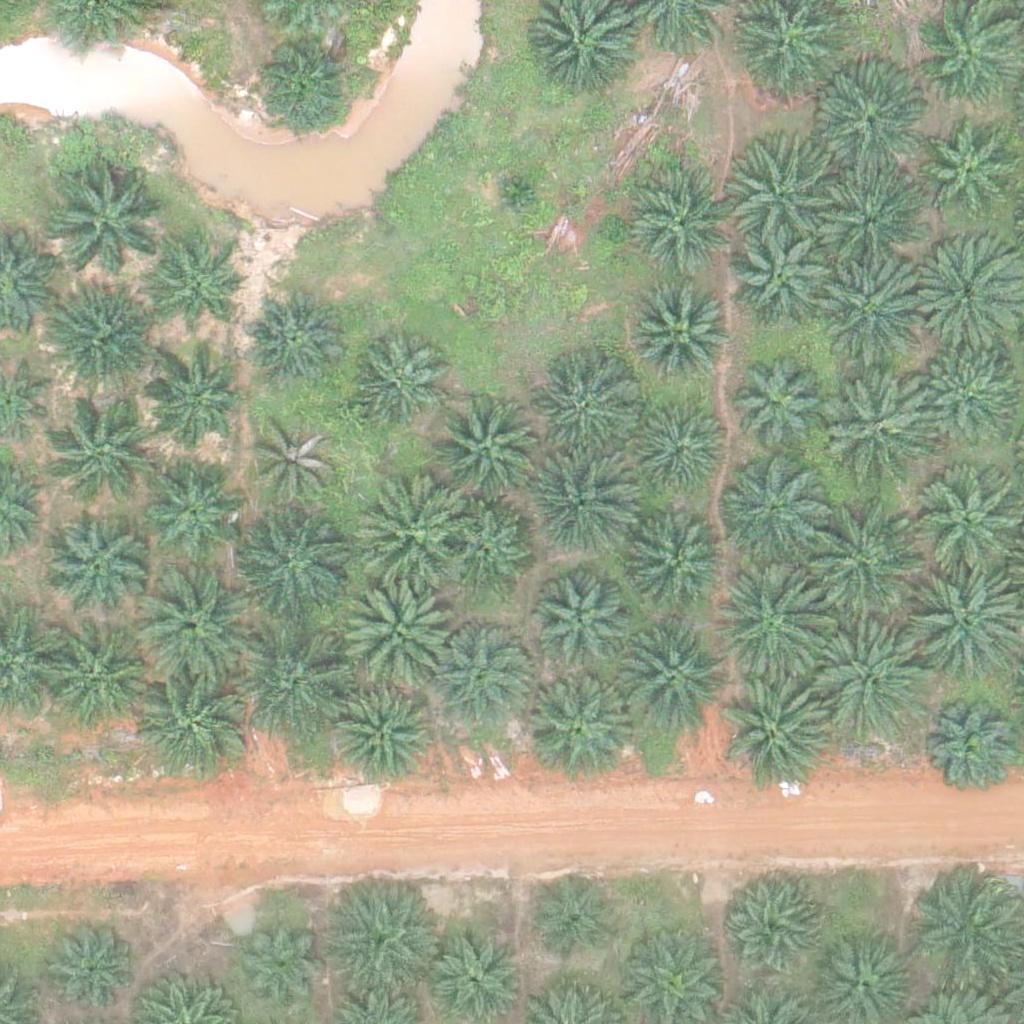Kelapa_Sawit: (910, 235, 1023, 349), (819, 251, 932, 365), (813, 628, 926, 742), (710, 568, 823, 682), (526, 669, 639, 783), (613, 621, 726, 735), (907, 878, 1020, 991), (824, 369, 937, 482), (525, 448, 638, 561), (137, 669, 250, 782), (50, 159, 163, 272), (325, 876, 437, 990), (717, 452, 829, 566), (49, 390, 161, 504), (817, 73, 929, 186), (806, 502, 918, 615), (722, 679, 834, 792), (728, 129, 840, 242), (430, 392, 542, 505), (353, 475, 465, 588), (340, 573, 452, 686), (242, 628, 354, 741), (238, 507, 350, 620), (136, 569, 248, 682), (37, 626, 149, 739), (40, 287, 152, 400), (41, 918, 141, 1019), (918, 122, 1018, 223), (729, 357, 829, 458), (730, 227, 830, 328), (531, 578, 631, 679), (432, 622, 532, 723), (346, 333, 446, 434), (142, 353, 242, 454), (44, 515, 144, 616), (721, 877, 821, 977), (426, 923, 526, 1023), (920, 354, 1020, 454), (820, 170, 920, 270), (631, 178, 731, 278), (632, 287, 732, 387), (632, 403, 732, 503), (628, 519, 728, 619), (534, 363, 634, 463), (331, 685, 431, 785), (252, 35, 352, 135), (243, 288, 343, 388), (142, 457, 242, 557), (530, 873, 618, 961), (442, 506, 530, 594), (242, 921, 329, 1009), (925, 708, 1012, 796), (252, 419, 339, 507), (154, 249, 241, 337), (489, 165, 539, 216)
